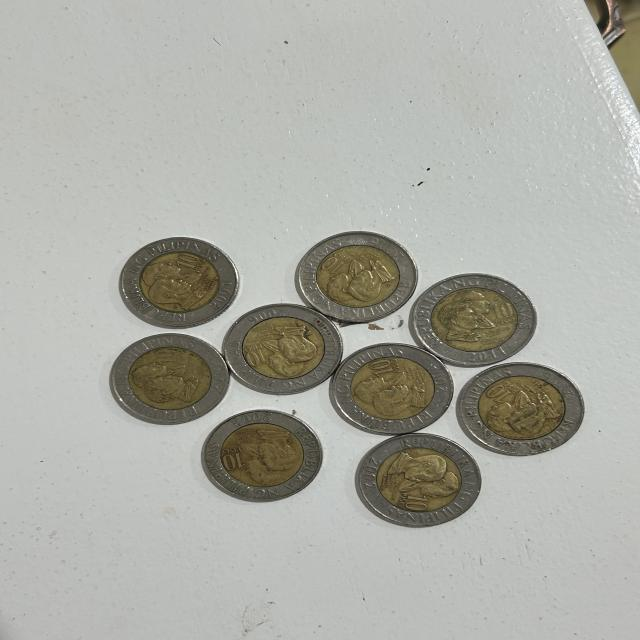10_Old_Front: (137, 360, 188, 402), (392, 490, 434, 516), (486, 298, 520, 328), (481, 379, 520, 404), (217, 445, 248, 476), (320, 254, 356, 279), (366, 354, 402, 376), (238, 343, 268, 369), (173, 252, 208, 274)
